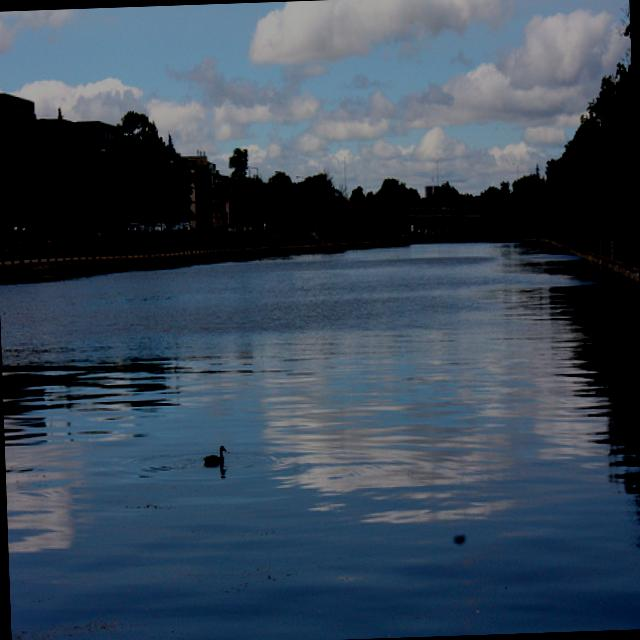Vehicle: (152, 220, 166, 236), (170, 220, 186, 233), (126, 222, 140, 235), (177, 221, 190, 234), (140, 226, 148, 236), (146, 224, 152, 234), (188, 224, 194, 232)
